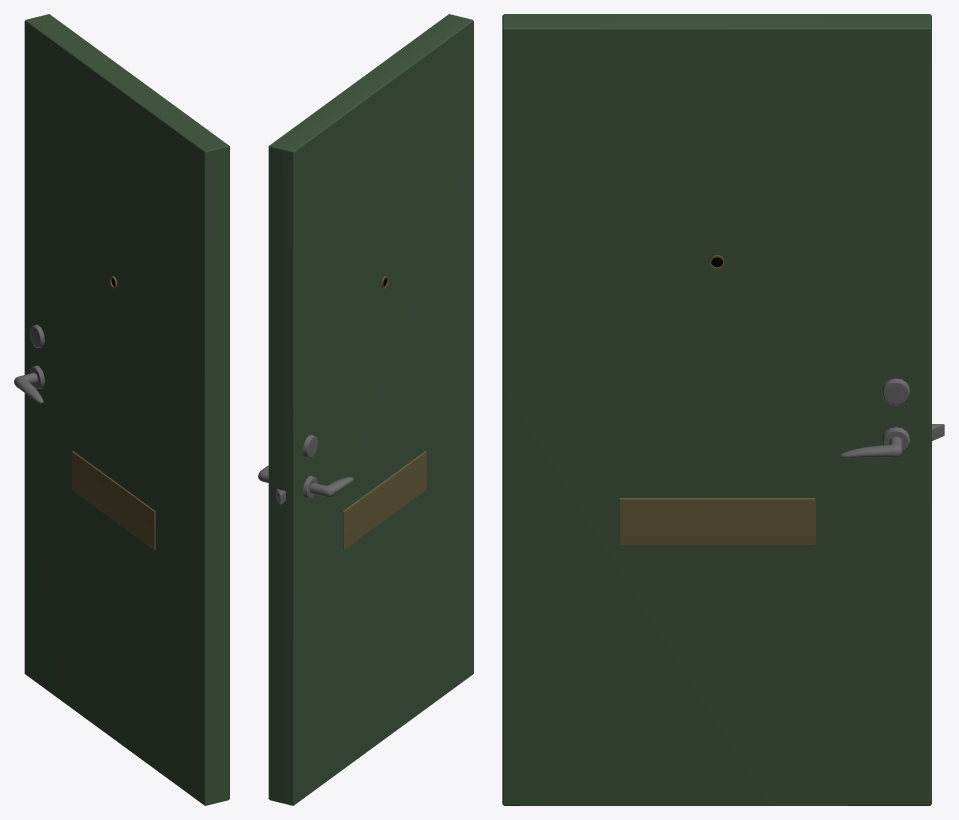
The model's file is ApartmentDoor_SM.fbx.
3 renders of one model, left to right at view 1: azimuth 30°, elevation 25°; view 2: azimuth 150°, elevation 25°; view 3: azimuth 270°, elevation 25°, orthographic. The views are drawn at different scales.
Parts seen in each view (by area): view 1: ApartmentDoor, DoorHandle6; view 2: ApartmentDoor, DoorHandle6; view 3: ApartmentDoor, DoorHandle6.
Boxes of the visible parts, x1,y1,x2,y2 form: ApartmentDoor: (24,14,229,805); DoorHandle6: (14,373,43,403); ApartmentDoor: (268,14,473,805); DoorHandle6: (258,465,353,497); ApartmentDoor: (502,14,944,805); DoorHandle6: (839,436,902,458).
Size of the model in its own units: 29.69 by 240 by 124.
